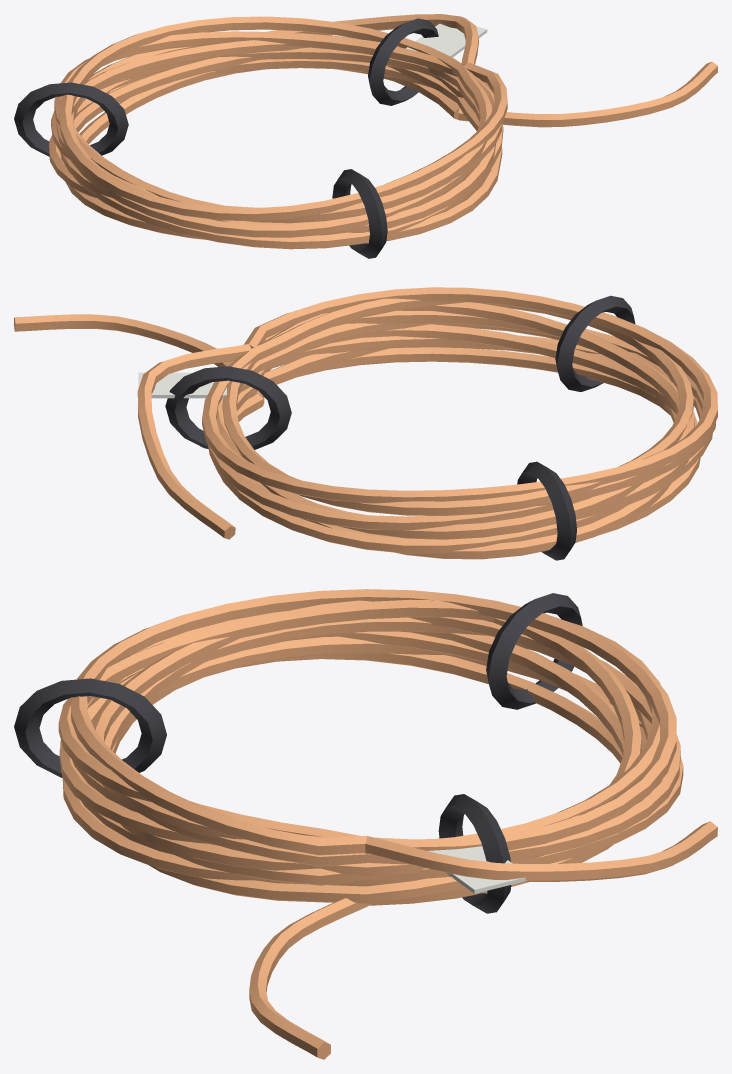
File: SM_CopperWire.fbx
3 views of the same model, one above another, from view 1: azimuth 30°, elevation 25°; view 2: azimuth 150°, elevation 25°; view 3: azimuth 270°, elevation 25° (orthographic). The views are drawn at different scales.
Visible parts, largest first — view 1: SM_CopperWire; view 2: SM_CopperWire; view 3: SM_CopperWire.
Part boxes in pixels (x1,y1,x2,y2): SM_CopperWire: (14,14,717,258); SM_CopperWire: (14,287,717,560); SM_CopperWire: (14,589,717,1059).
Size of the model in its own units: 0.4454 by 0.054 by 0.3284.
